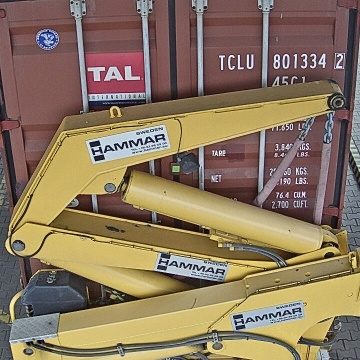serial_id: (219, 52, 344, 69)
